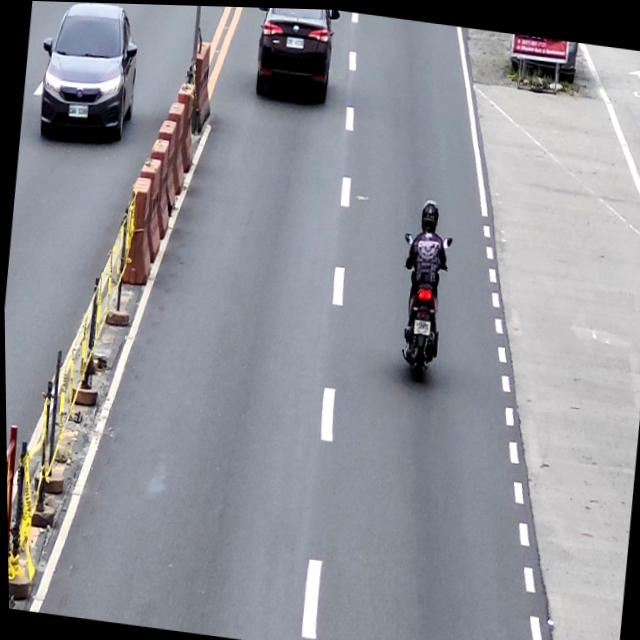Car: (247, 6, 341, 102)
License-Plate: (412, 316, 430, 333), (284, 35, 304, 48)
Motorcycle: (390, 225, 453, 381)
